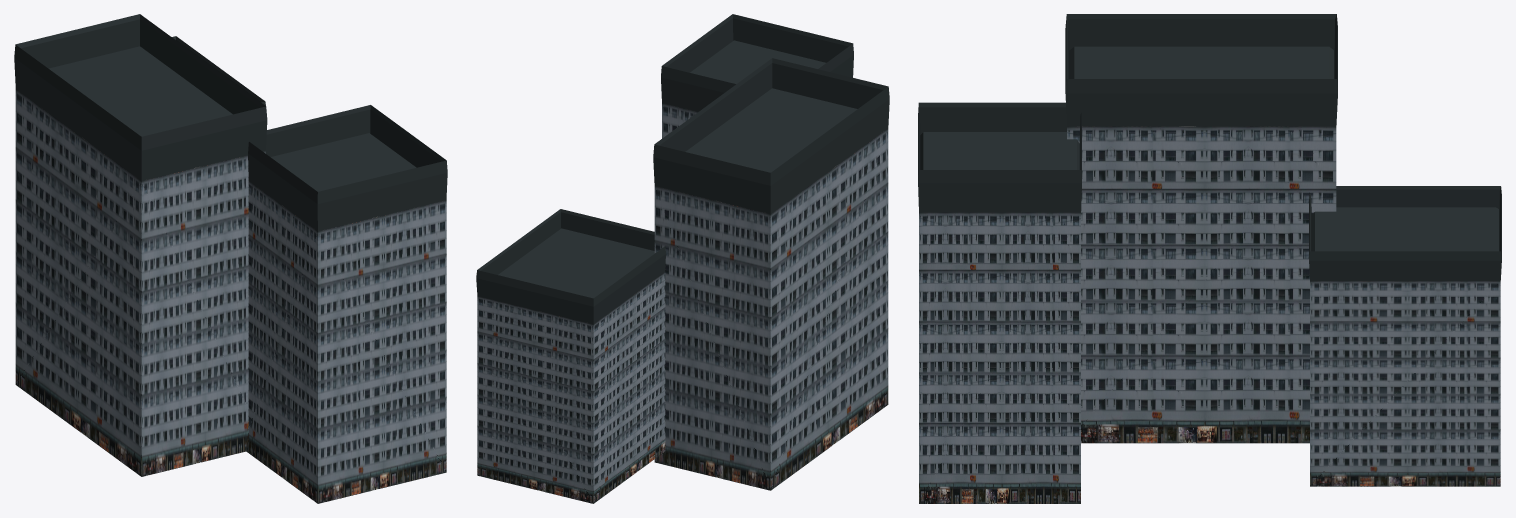
The model's file is Building04.FBX.
The picture shows the model from 3 angles, left to right: view 1: azimuth 30°, elevation 25°; view 2: azimuth 150°, elevation 25°; view 3: azimuth 270°, elevation 25°; orthographic projection. The views are drawn at different scales.
Parts seen in each view (by area): view 1: polySurface2023; view 2: polySurface2023; view 3: polySurface2023.
Part boxes in pixels (x1,y1,x2,y2): polySurface2023: (14,14,447,503); polySurface2023: (476,14,889,503); polySurface2023: (918,14,1501,503).
Bounding box in the file's own units: 320 × 440 × 635.
1 material, 1 textured.
